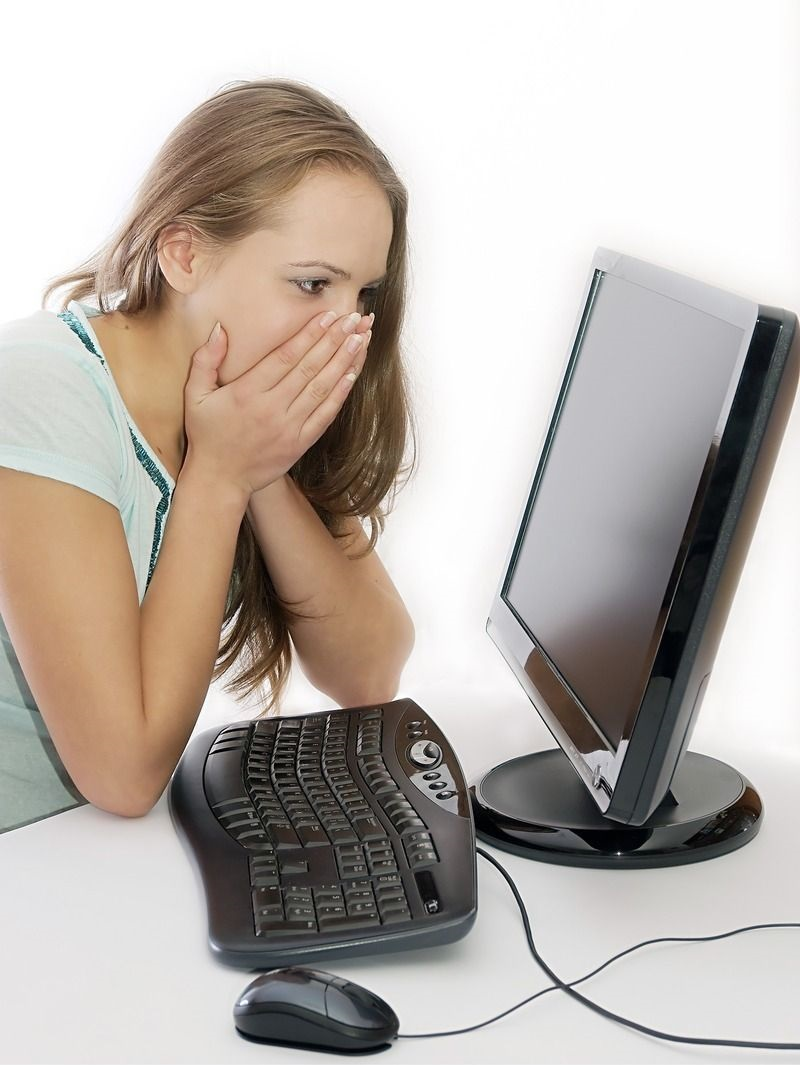face: (213, 167, 382, 440)
